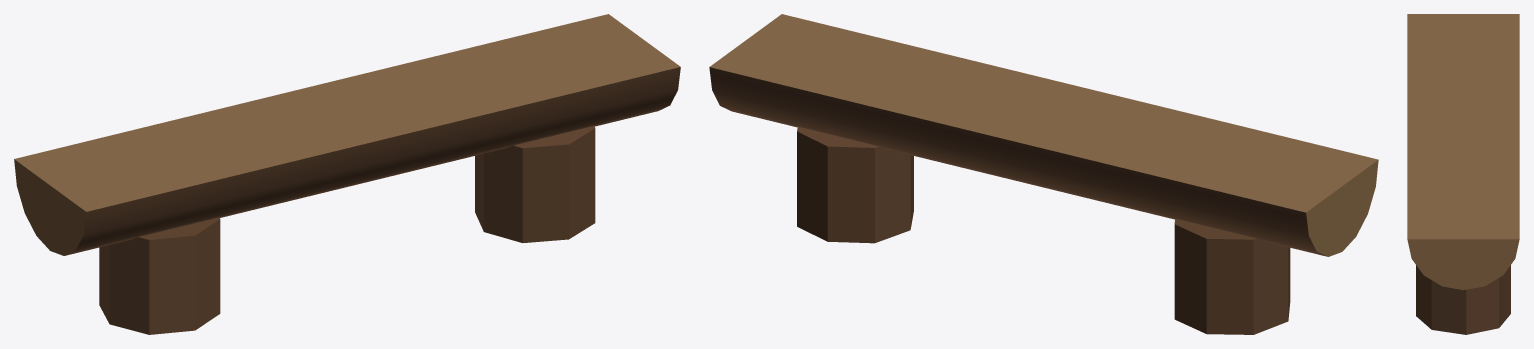
Rendered from bench_log.glb.
The picture shows the model from 3 angles, left to right: view 1: azimuth 30°, elevation 25°; view 2: azimuth 150°, elevation 25°; view 3: azimuth 270°, elevation 25°; orthographic projection. The views are drawn at different scales.
Parts seen in each view (by area): view 1: bench_log; view 2: bench_log; view 3: bench_log.
Boxes of the visible parts, <box> form: bench_log: <box>14,14,680,334</box>; bench_log: <box>709,14,1378,334</box>; bench_log: <box>1407,14,1519,334</box>.
Size of the model in its own units: 1.9 by 0.46 by 0.4.
